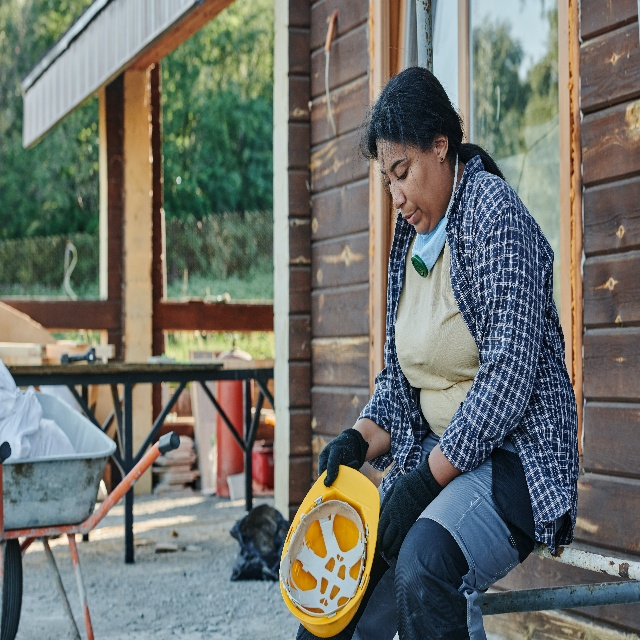Guantes: (376, 451, 441, 562), (317, 428, 368, 488)
Mascara: (411, 153, 458, 278)
